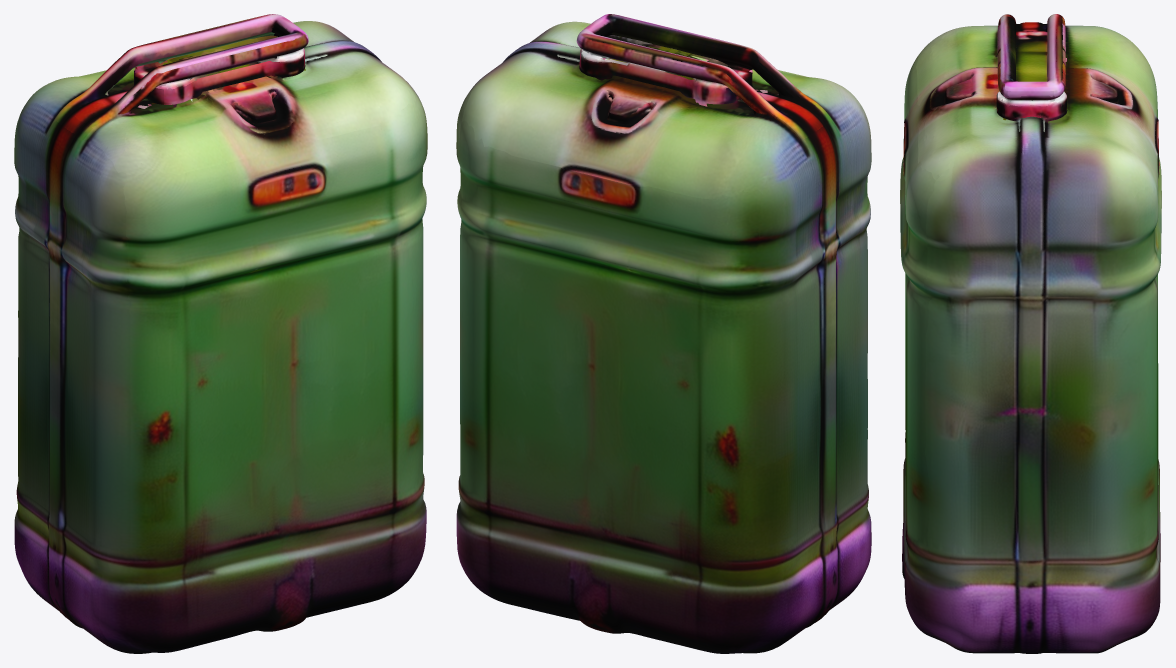
File: tanque_gasolina.glb
3 views of the same model, side by side, from view 1: azimuth 30°, elevation 25°; view 2: azimuth 150°, elevation 25°; view 3: azimuth 270°, elevation 25° (orthographic). The views are drawn at different scales.
Parts seen in each view (by area): view 1: tmp5u_cmfik.ply; view 2: tmp5u_cmfik.ply; view 3: tmp5u_cmfik.ply.
Part boxes in pixels (left/top/right/bottom): tmp5u_cmfik.ply: left=14, top=14, right=427, bottom=653; tmp5u_cmfik.ply: left=456, top=14, right=871, bottom=653; tmp5u_cmfik.ply: left=900, top=14, right=1161, bottom=653.
Bounding box in the file's own units: 1.25 × 1.99 × 0.8686.
1 material, 1 textured.
